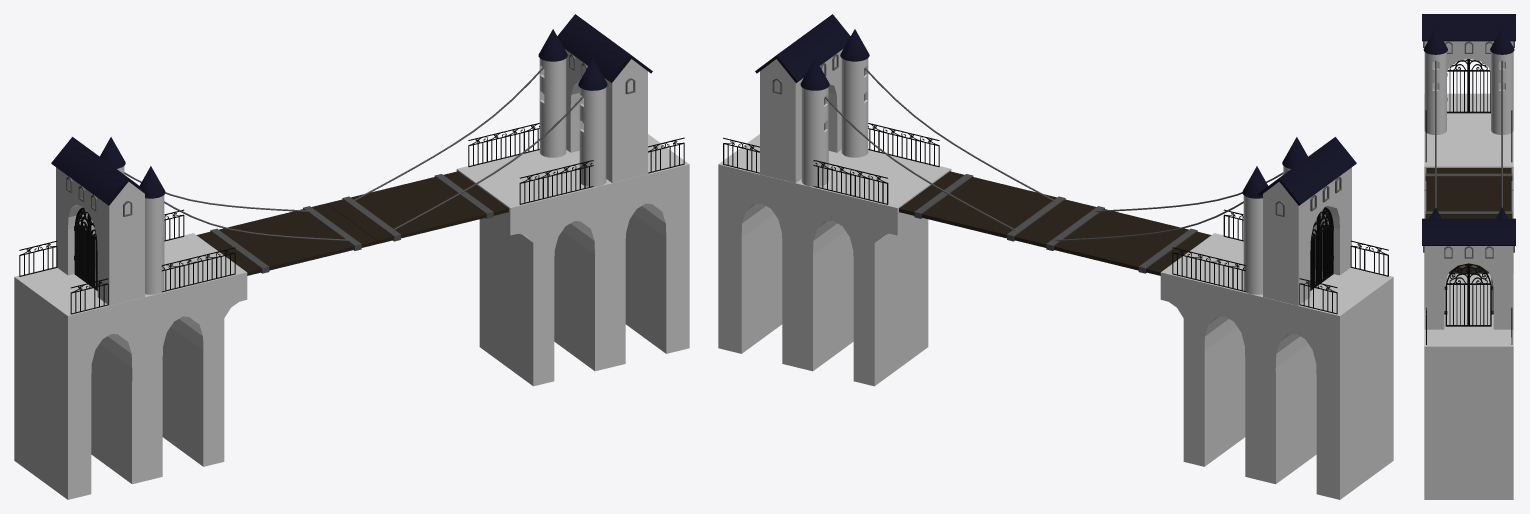
Rendered from bridge_sketchfab2.fbx.
3 renders of one model, left to right at view 1: azimuth 30°, elevation 25°; view 2: azimuth 150°, elevation 25°; view 3: azimuth 270°, elevation 25°, orthographic. The views are drawn at different scales.
Visible parts, largest first — view 1: bru (×2), gate (×4), Wooden_bridge (×4), tower1 (×2), gjerde_back (×2), tower2, kjettinger1 (×2), Gjerde_front, port2; view 2: bru (×2), gate (×4), Wooden_bridge (×4), tower2 (×2), gjerde_back (×2), tower1, kjettinger1 (×2), Gjerde_front, port1; view 3: bru (×2), gate (×4), Wooden_bridge (×3), tower2, tower1, port2 (×2), port1 (×2), kjettinger1, windows (×2), roof2, roof1, gjerde_back.
Boxes of the visible parts, box(x1,y1,x2,y2) form: bru (×2): box(14, 134, 689, 499); gate (×4): box(51, 14, 652, 305); Wooden_bridge (×4): box(196, 171, 508, 275); tower1 (×2): box(145, 58, 566, 294); gjerde_back (×2): box(161, 123, 593, 292); tower2: box(579, 87, 606, 186); kjettinger1 (×2): box(124, 67, 583, 241); Gjerde_front: box(19, 240, 108, 314); port2: box(74, 207, 88, 283); bru (×2): box(718, 134, 1393, 499); gate (×4): box(755, 14, 1356, 305); Wooden_bridge (×4): box(899, 171, 1211, 275); tower2 (×2): box(841, 58, 1262, 294); gjerde_back (×2): box(813, 123, 1245, 292); tower1: box(801, 87, 828, 186); kjettinger1 (×2): box(824, 67, 1283, 241); Gjerde_front: box(1299, 240, 1388, 314); port1: box(1320, 207, 1333, 282); bru (×2): box(1424, 93, 1513, 499); gate (×4): box(1422, 14, 1515, 329); Wooden_bridge (×3): box(1425, 168, 1512, 273); tower2: box(1491, 52, 1513, 134); tower1: box(1424, 52, 1446, 134); port2 (×2): box(1468, 59, 1491, 326); port1 (×2): box(1445, 59, 1468, 326); kjettinger1: box(1435, 60, 1502, 208); windows (×2): box(1423, 41, 1514, 258); roof2: box(1490, 27, 1514, 54); roof1: box(1423, 28, 1447, 54); gjerde_back: box(1425, 110, 1512, 162).
Size of the model in its own units: 48.76 by 23.12 by 7.64.
